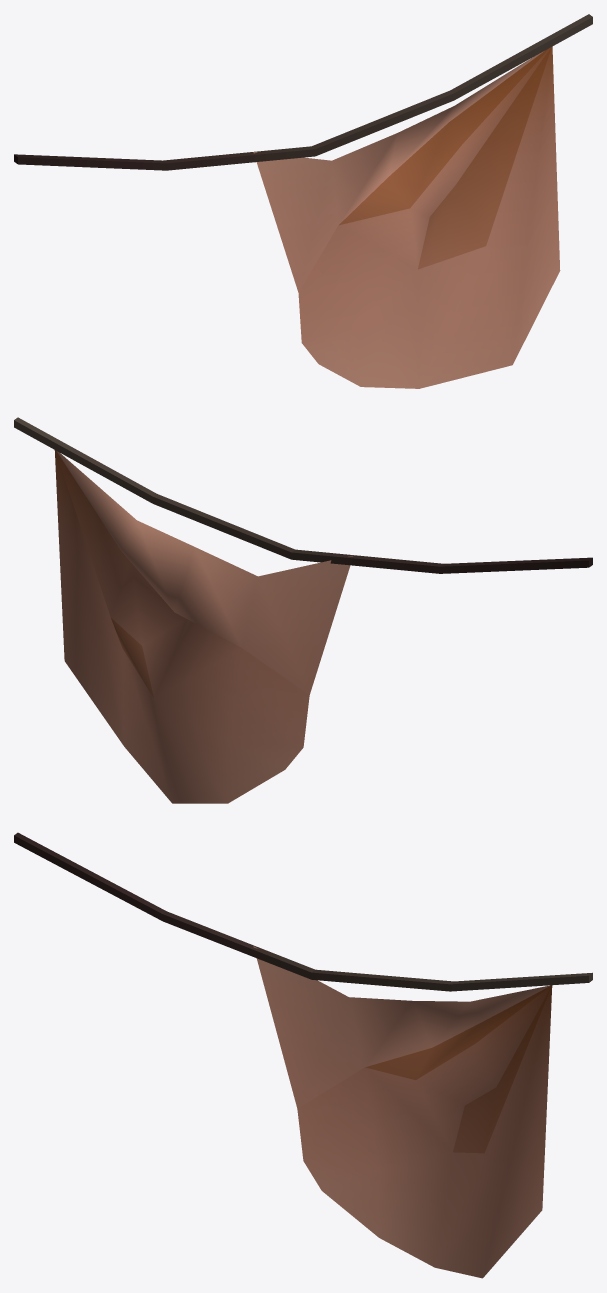
The model's file is SM_FabricOnRope_01.fbx.
3 renders of one model, top to bottom at view 1: azimuth 30°, elevation 25°; view 2: azimuth 150°, elevation 25°; view 3: azimuth 330°, elevation 25°, orthographic.
Visible parts, largest first — view 1: SM_FabricOnRope_01; view 2: SM_FabricOnRope_01; view 3: SM_FabricOnRope_01.
Boxes of the visible parts, x1=… form: SM_FabricOnRope_01: x1=14, y1=14, x2=592, y2=388; SM_FabricOnRope_01: x1=14, y1=417, x2=592, y2=803; SM_FabricOnRope_01: x1=14, y1=832, x2=592, y2=1278.
Bounding box in the file's own units: 3 × 1.69 × 0.3335.
